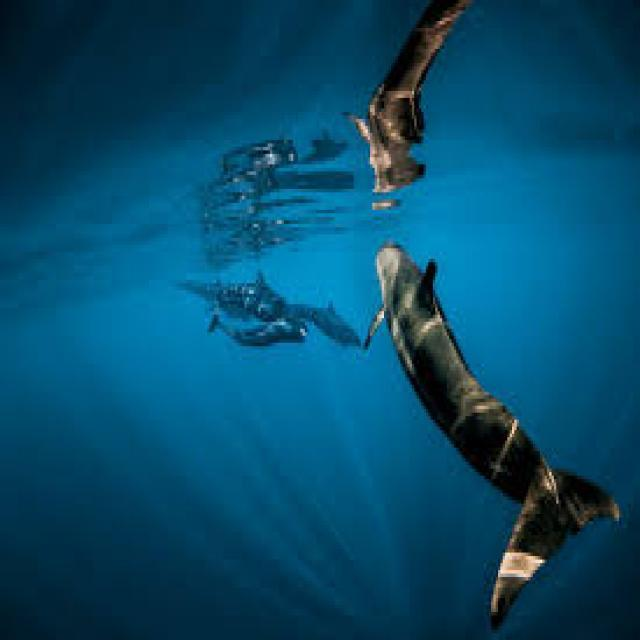blue_whale: (358, 224, 633, 633)
